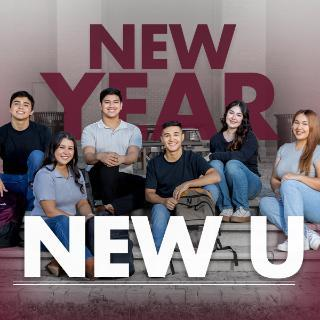person - v3 P: (146, 122, 220, 252), (82, 88, 146, 215), (260, 110, 319, 235), (31, 132, 93, 250), (208, 101, 262, 222), (0, 91, 51, 211)
